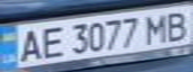0: (84, 19, 109, 52)
3: (66, 20, 90, 55)
7: (118, 15, 145, 48), (103, 16, 124, 51)
A: (12, 26, 45, 63)
B: (160, 8, 193, 43)
E: (36, 24, 66, 60)
M: (139, 10, 175, 44)
